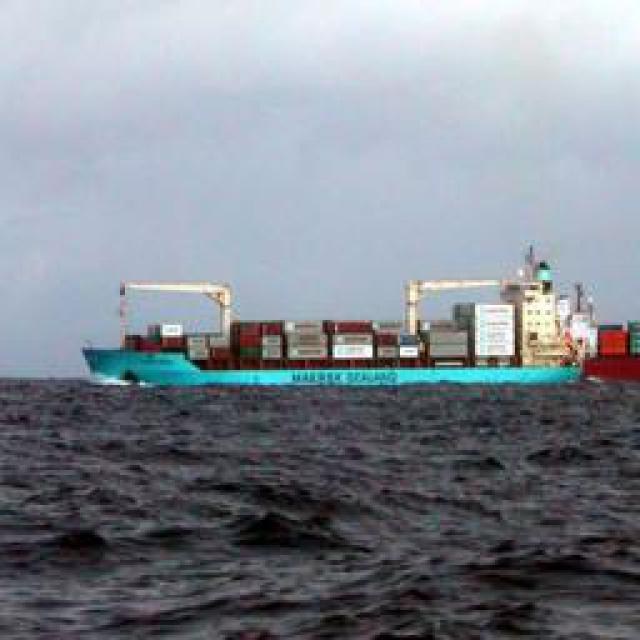Ship: (83, 266, 618, 389)
